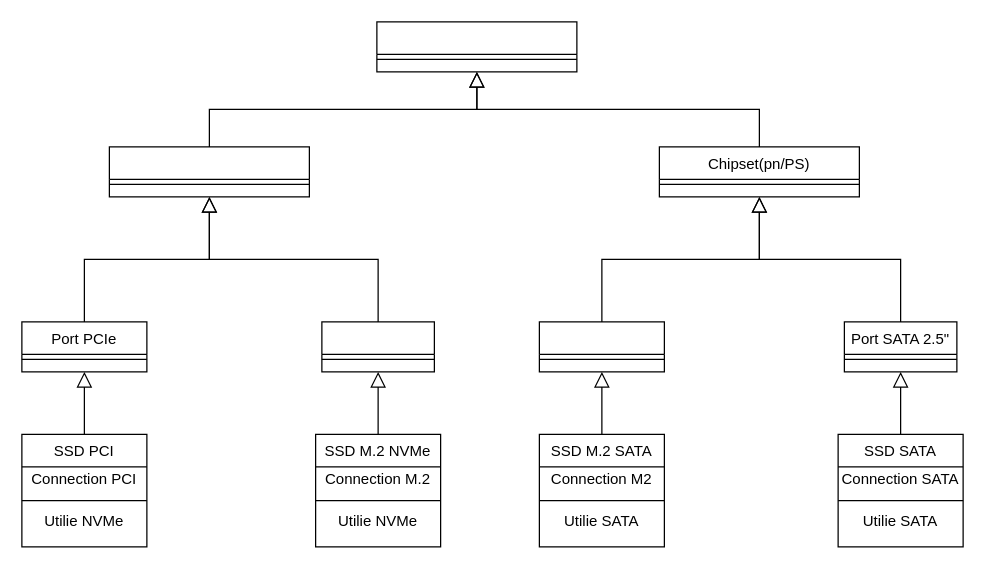
Some shapes in this 985 by 569 pixel diagram are drawn without their labels. Here are the shapes that lost their labels. From the top down, the centre of each, then its label:
At (x=476, y=46): "CPU".
At (x=208, y=171): "Bus PCI".
At (x=377, y=346): "Port M.2".
At (x=601, y=346): "Port M.2 /SATA".
